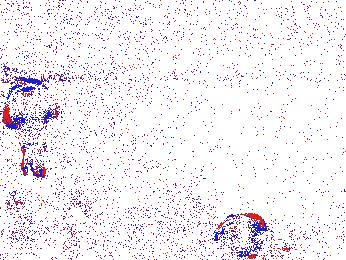flame jellyfish: (4, 80, 61, 178), (213, 214, 289, 260), (48, 190, 91, 238), (7, 188, 46, 235)
